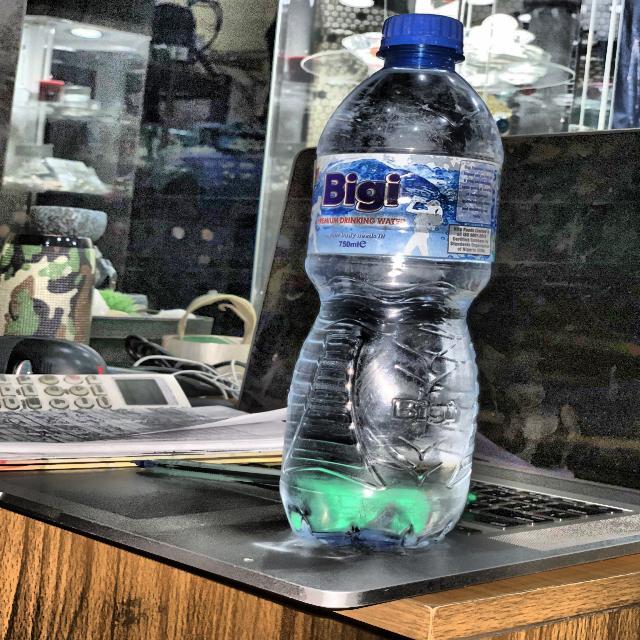plastic bottle: (280, 13, 504, 549)
